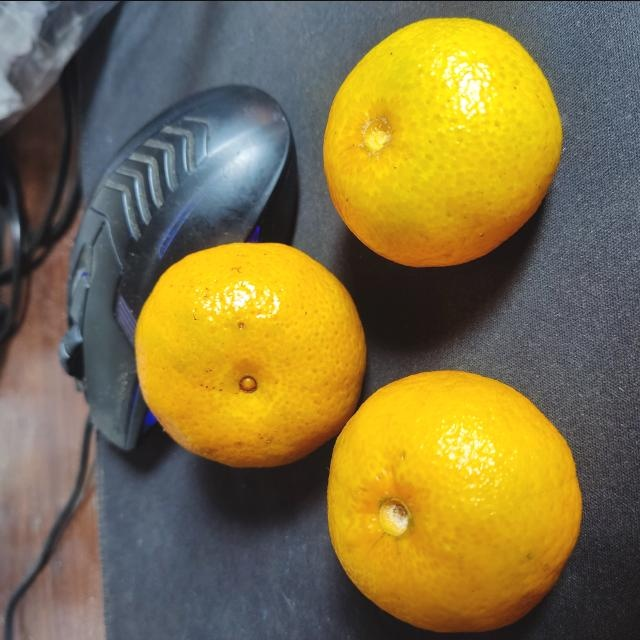agrume: (326, 368, 582, 640), (319, 14, 563, 270), (133, 240, 367, 470)
